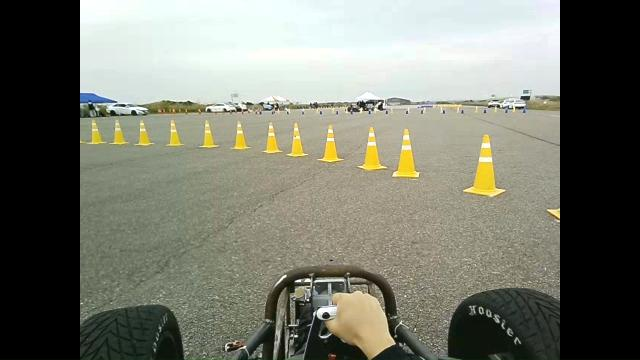yellow cone: (462, 133, 506, 197), (392, 128, 419, 178), (357, 126, 387, 170), (317, 124, 344, 162), (285, 122, 309, 157), (261, 121, 283, 153), (198, 119, 219, 148), (230, 120, 250, 150), (86, 118, 107, 144), (134, 119, 154, 146), (109, 119, 129, 145), (165, 119, 184, 146)
